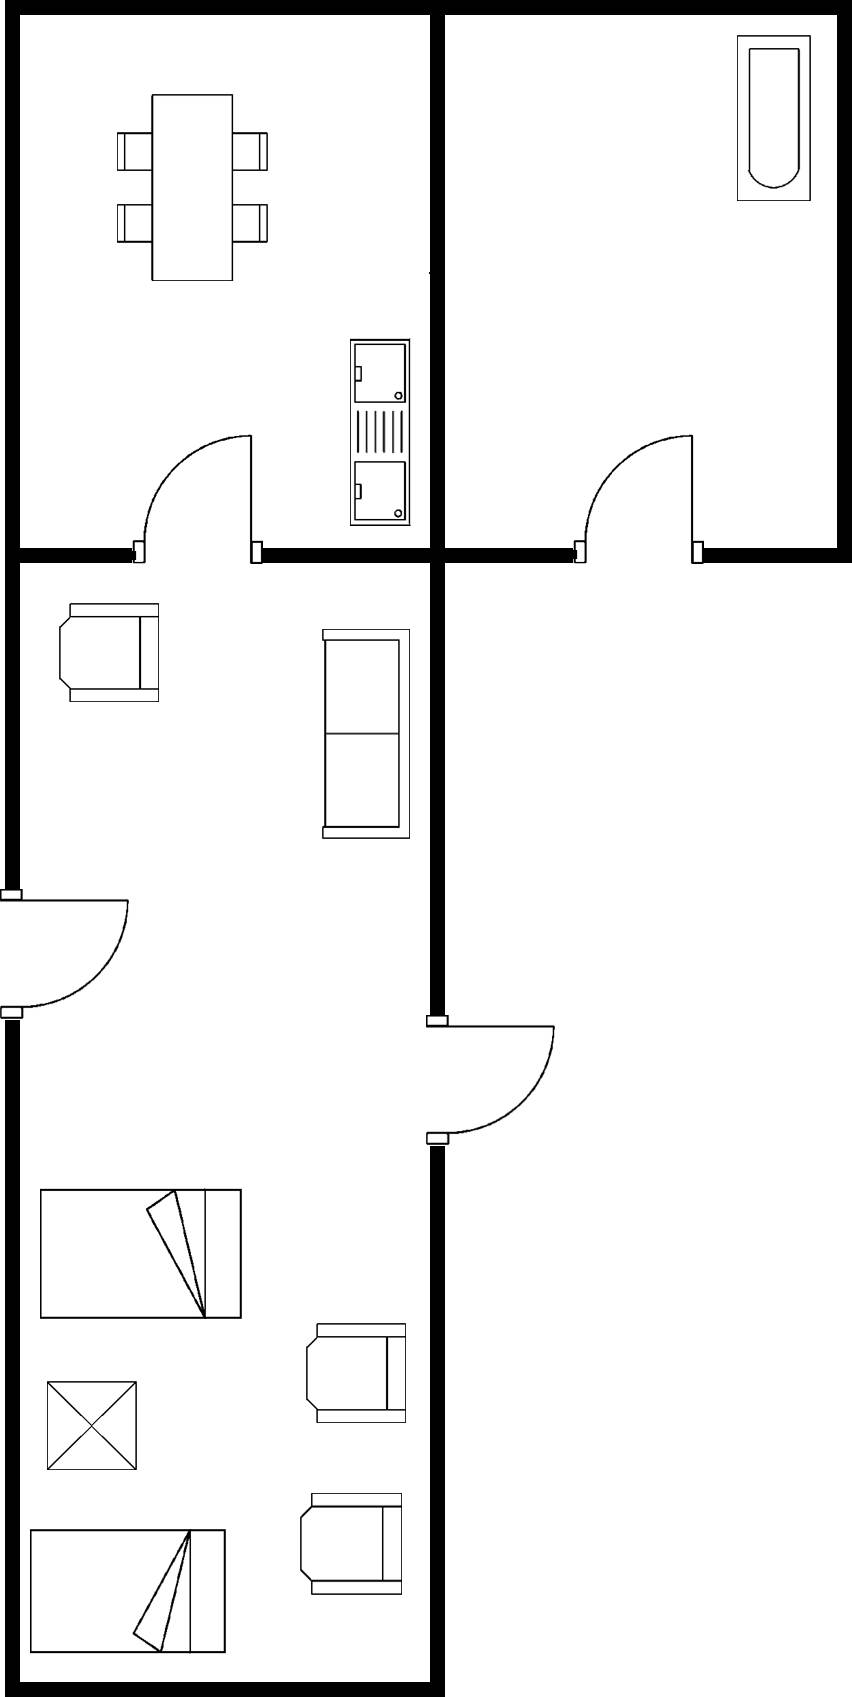armchair: (291, 1485, 412, 1603), (299, 1317, 415, 1433), (55, 598, 167, 709)
bed: (35, 1174, 249, 1328), (25, 1523, 234, 1663)
coffee_table: (42, 1375, 145, 1480)
dining_table: (106, 81, 278, 296)
large_sofa: (315, 622, 421, 848)
tub: (729, 24, 819, 209)
twin_sink: (342, 327, 421, 532)
